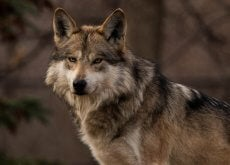Lobo: (43, 5, 203, 157)
